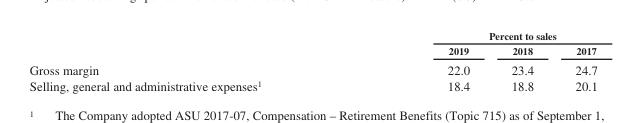table: (28, 29, 596, 92)
table column: (28, 29, 353, 92), (353, 29, 489, 92), (489, 29, 553, 92), (553, 29, 596, 92)
table column header: (28, 29, 596, 59)
table row: (28, 59, 596, 77), (28, 42, 596, 59), (28, 77, 596, 92), (28, 29, 596, 42)
table spanning cell: (353, 29, 596, 42)
